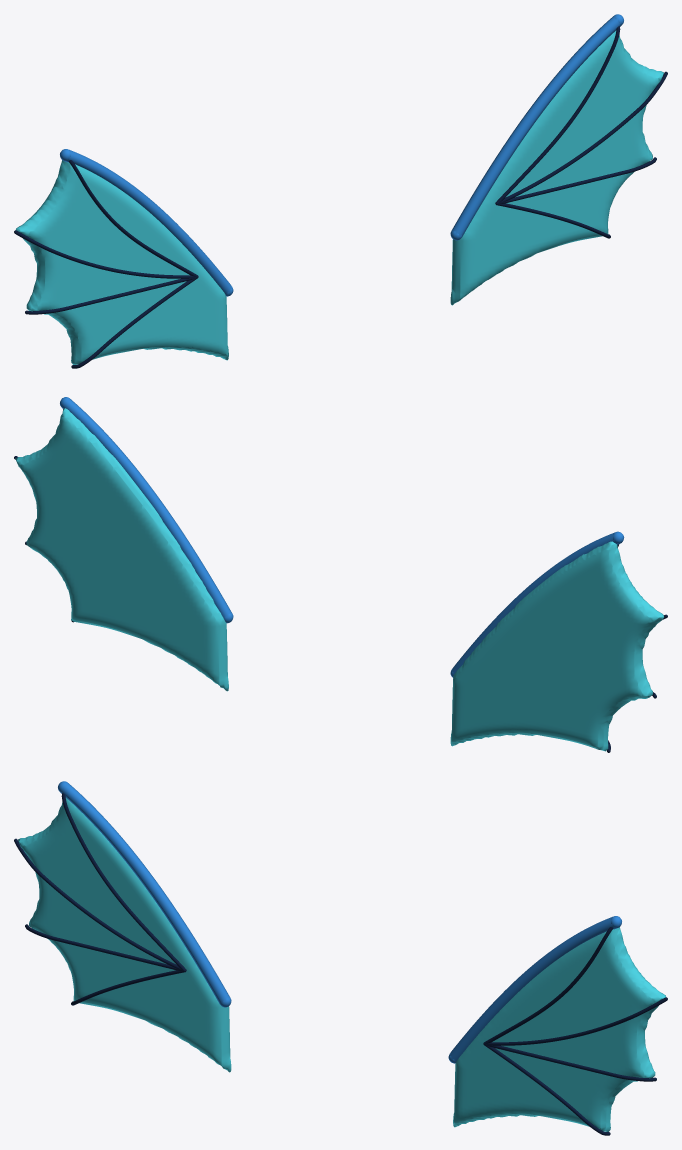
File: wings-butterfly.glb
3 views of the same model, one above another, from view 1: azimuth 30°, elevation 25°; view 2: azimuth 150°, elevation 25°; view 3: azimuth 330°, elevation 25° (orthographic).
Visible parts, largest first — view 1: wings_0_solid, wings_4_solid, wings_6_line, wings_5_line, wings_1_line, wings_2_line; view 2: wings_0_solid, wings_4_solid, wings_6_line, wings_2_line; view 3: wings_4_solid, wings_0_solid, wings_2_line, wings_1_line, wings_5_line, wings_6_line.
Boxes of the visible parts, x1,y1,x2,y2 form: wings_0_solid: (16,160,228,364); wings_4_solid: (450,30,663,305); wings_6_line: (450,14,623,240); wings_5_line: (495,26,667,238); wings_1_line: (14,160,198,368); wings_2_line: (60,149,233,296); wings_0_solid: (450,541,663,751); wings_4_solid: (15,408,228,691); wings_6_line: (60,397,233,623); wings_2_line: (450,531,624,677); wings_4_solid: (453,927,665,1131); wings_0_solid: (18,797,231,1072); wings_2_line: (58,781,231,1007); wings_1_line: (14,793,186,1005); wings_5_line: (483,927,667,1135); wings_6_line: (448,916,621,1063).
Bounding box in the file's own units: 1.91 × 0.7067 × 0.0717.
